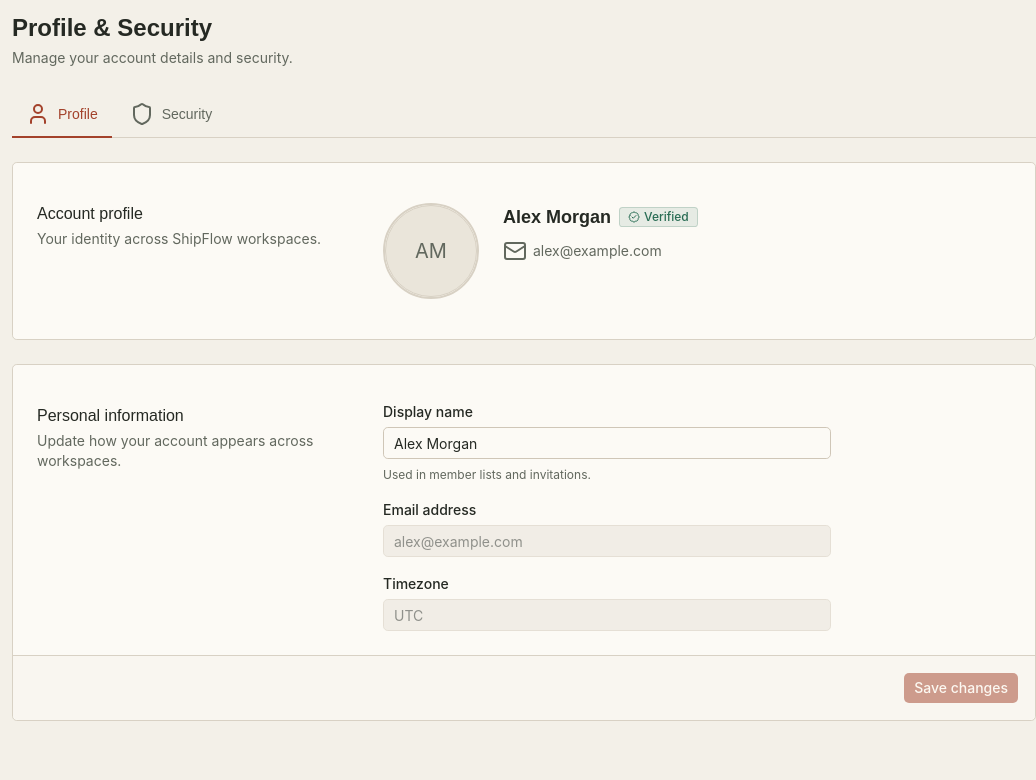
it: Profile › rejects an empty display name before making a request
Clear the field labelled "Display name" at (607, 443), box x1=383 y1=427 x2=831 y2=459
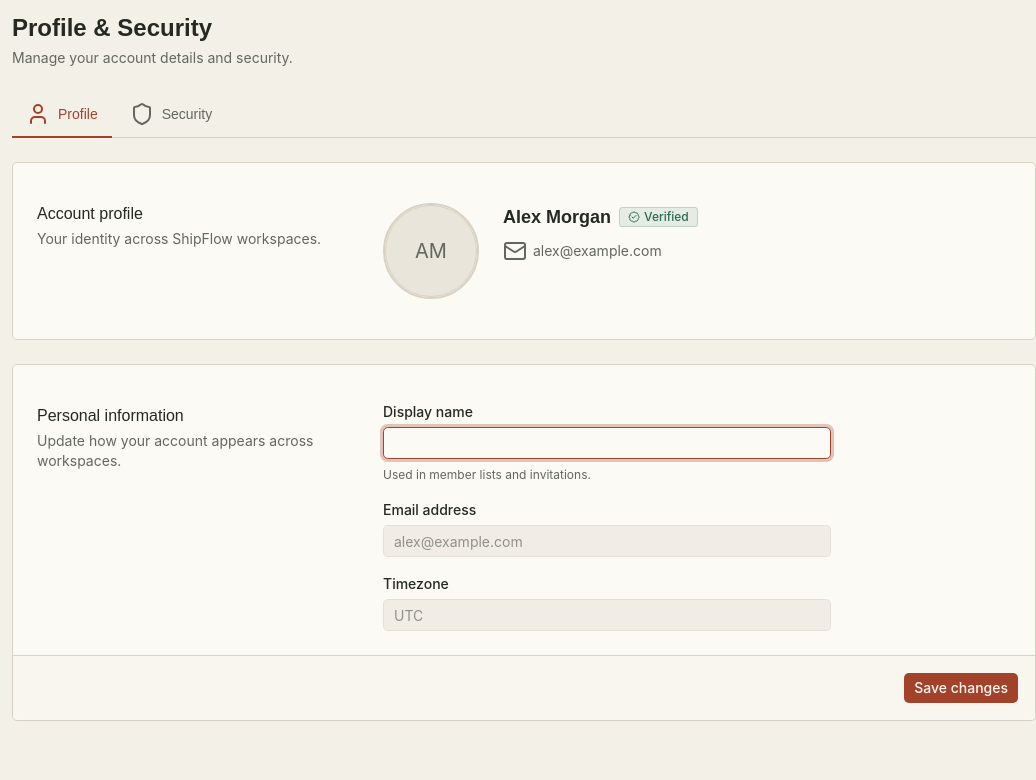
Click the button "Save changes" at (961, 688), box x1=903 y1=672 x2=1019 y2=704
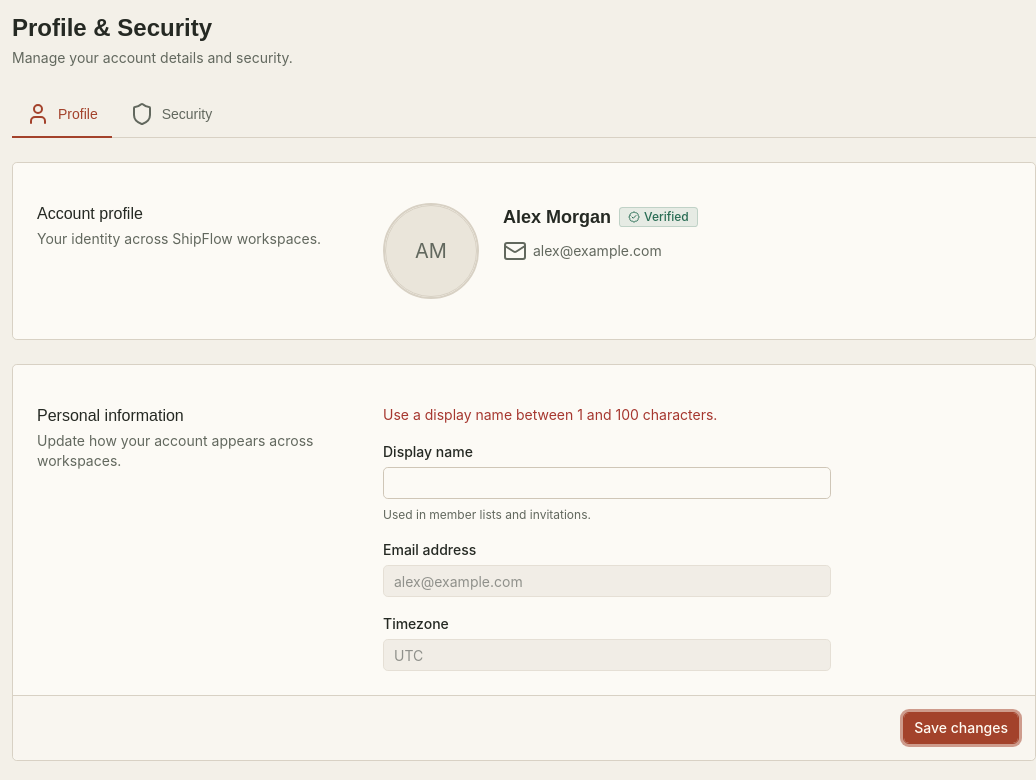
Result: the text "Use a display name between 1 and 100 characters." is shown at x1=383 y1=406 x2=717 y2=423
